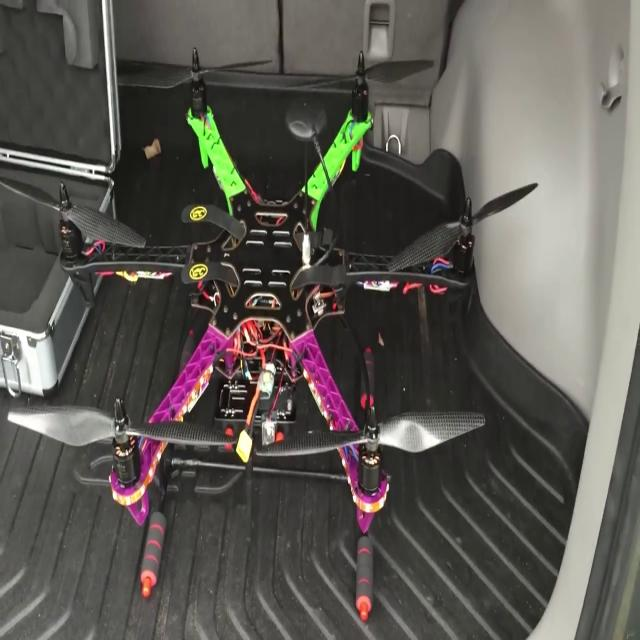drone: (20, 51, 499, 561)
